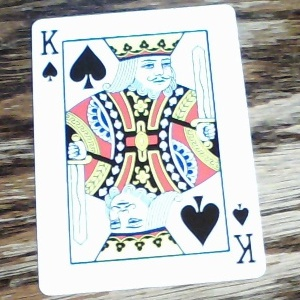card: (31, 3, 268, 297)
